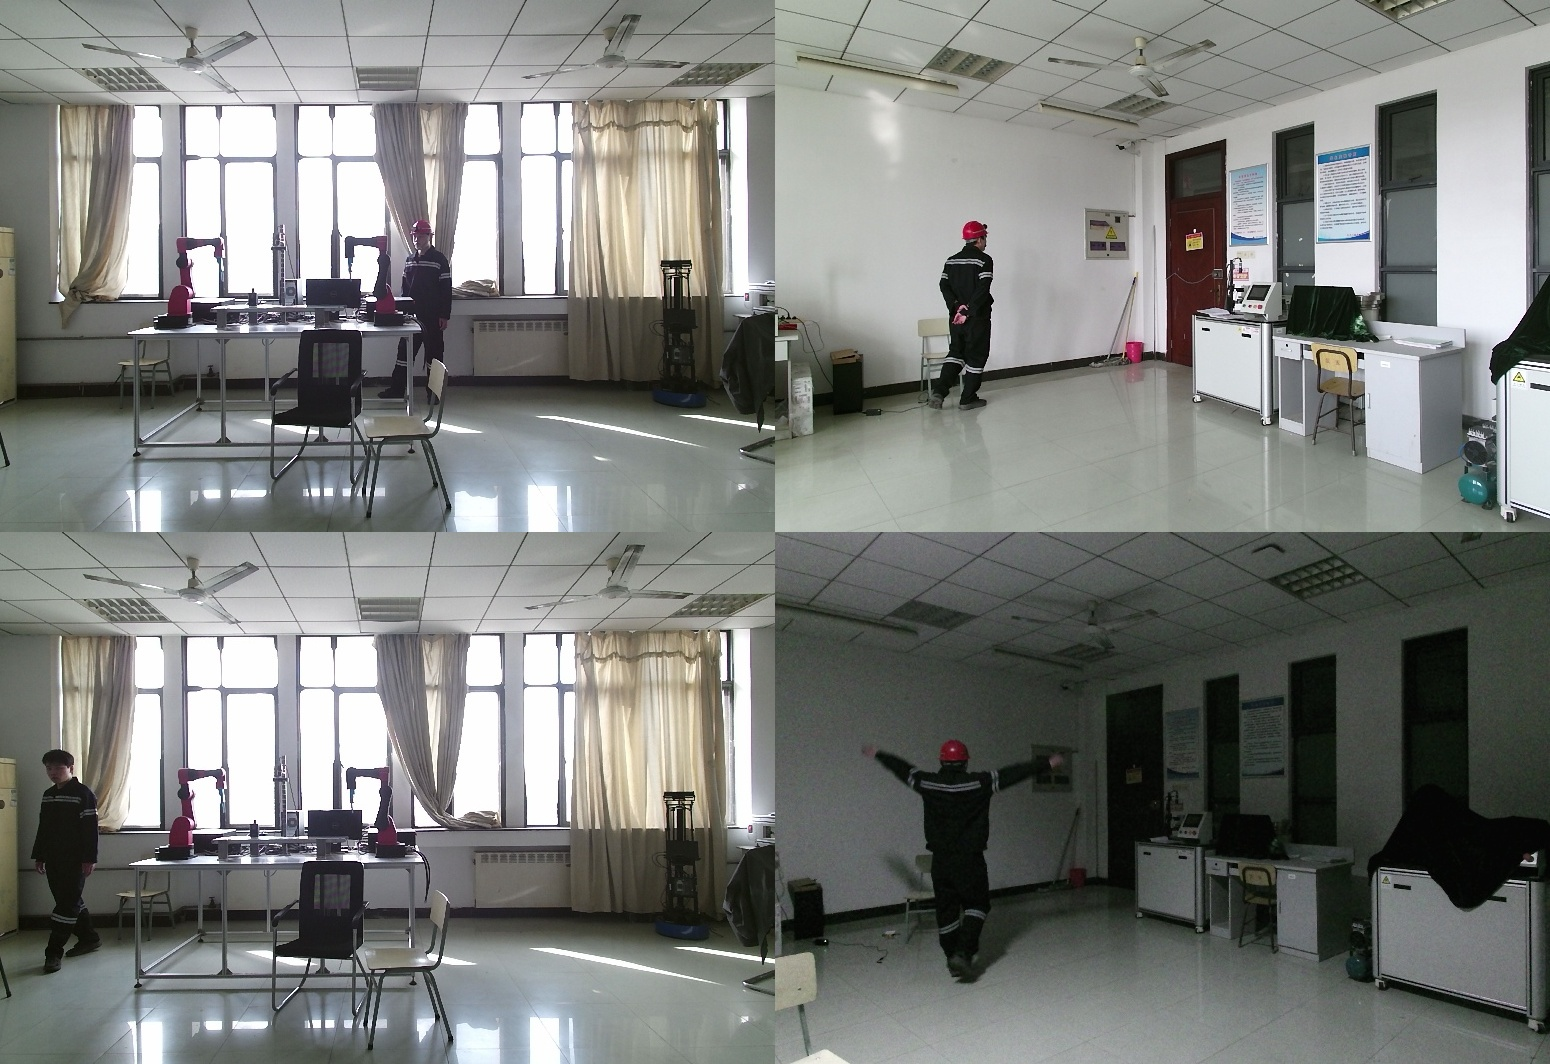person: (857, 741, 1069, 987), (26, 751, 109, 974), (921, 220, 996, 420), (396, 222, 444, 409)
